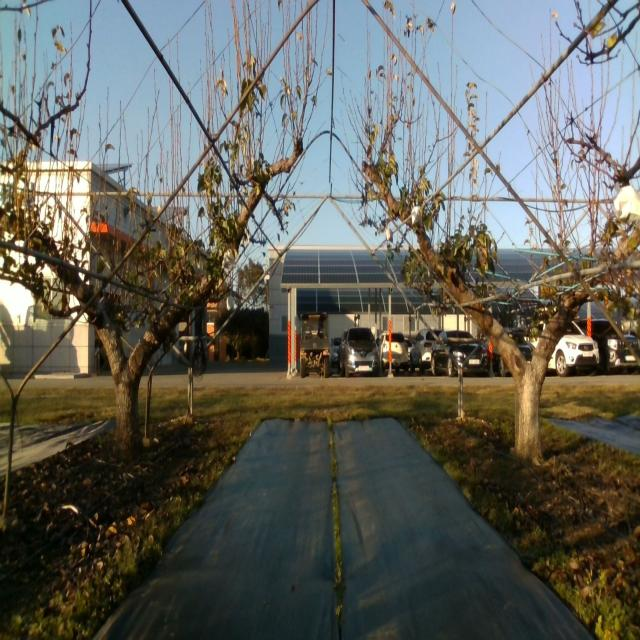pearbags: (612, 184, 640, 224), (222, 247, 236, 270), (411, 202, 422, 225)
